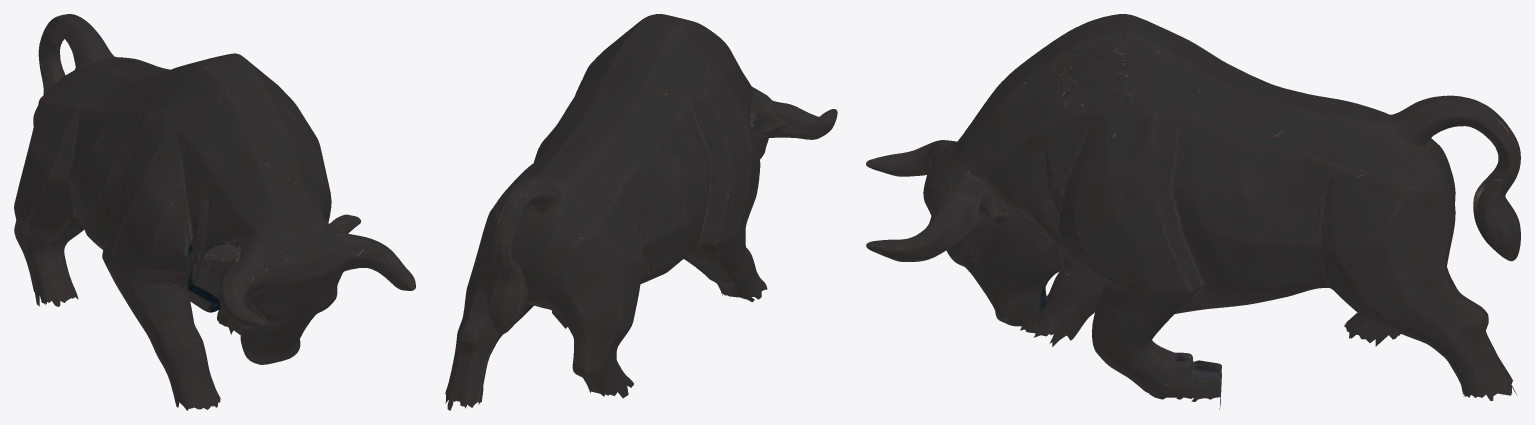
Rendered from bull-obsidian.glb.
3 renders of one model, left to right at view 1: azimuth 30°, elevation 25°; view 2: azimuth 150°, elevation 25°; view 3: azimuth 270°, elevation 25°, orthographic. The views are drawn at different scales.
Parts seen in each view (by area): view 1: Mesh_0; view 2: Mesh_0; view 3: Mesh_0.
Boxes of the visible parts, x1=… form: Mesh_0: x1=14, y1=14, x2=415, y2=410; Mesh_0: x1=445, y1=14, x2=837, y2=410; Mesh_0: x1=866, y1=14, x2=1520, y2=409.
Size of the model in its own units: 0.6929 by 1.06 by 1.78.
1 material, 1 textured.
